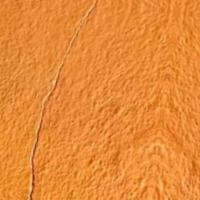crack: (12, 0, 103, 199)
